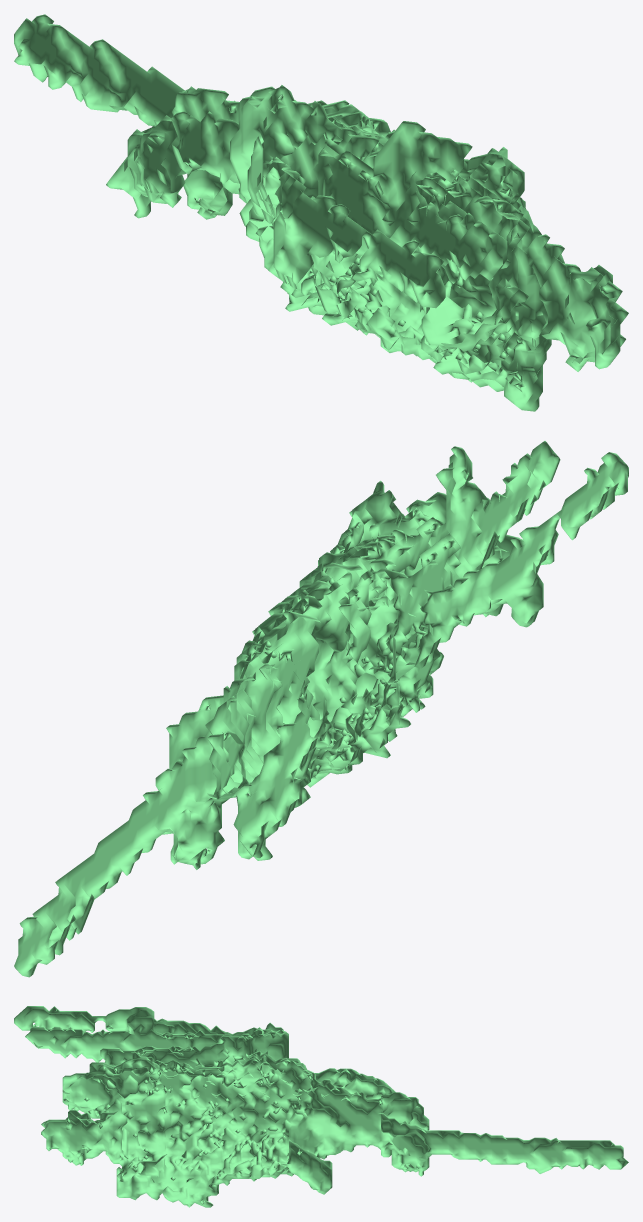
The model's file is osteocyte_117.glb.
3 views of the same model, one above another, from view 1: azimuth 30°, elevation 25°; view 2: azimuth 150°, elevation 25°; view 3: azimuth 270°, elevation 25° (orthographic). The views are drawn at different scales.
Visible parts, largest first — view 1: osteocyte_117; view 2: osteocyte_117; view 3: osteocyte_117.
Part boxes in pixels (x1,y1,x2,y2): osteocyte_117: (14, 14, 628, 411); osteocyte_117: (14, 441, 628, 977); osteocyte_117: (14, 1006, 628, 1207).
Size of the model in its own units: 15.41 by 16.85 by 54.89.
